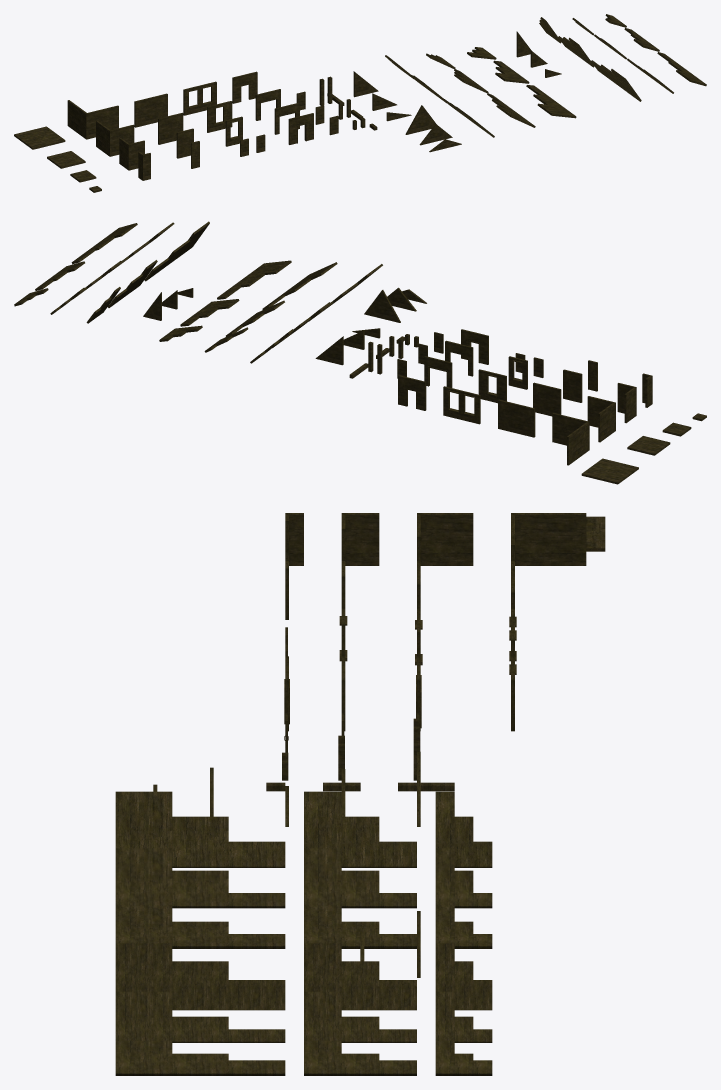
Rendered from Modular_Wood_Ver_01.fbx.
The picture shows the model from 3 angles, top to bottom: view 1: azimuth 30°, elevation 25°; view 2: azimuth 150°, elevation 25°; view 3: azimuth 270°, elevation 25°; orthographic projection. The views are drawn at different scales.
Visible parts, largest first — view 1: Wall_Corner_4x4, Wall_Corner_3x3, Wall_3x4_Var_01, Floor_4x4, Windowframe_4x3_Var_1, Wall_3x3_Var_01, Wall_Corner_2x3, Wall_3x3_Door_V4, Wall_3x3_Door_V1, Windowframe_3x3_Var_1, Triangle_Roof_4x3, Wall_2x3_Var_01 (+8 smaller); view 2: Wall_Corner_4x4, Wall_3x4_Var_01, Wall_Corner_3x3, Windowframe_4x3_Var_1, Floor_4x4, Wall_3x3_Var_01, Wall_3x3_Door_V4, Windowframe_3x3_Var_1, Wall_Corner_2x3, Wall_3x3_Door_V1, Wall_2x3_Var_01, Triangle_Roof_4x3 (+5 smaller); view 3: Wall_Corner_4x4, Roof_3x3_Var_02, Roof_3x3_Var_01, Wall_Corner_3x3, Roof_2x3_Var_01, pPlane11.003, pPlane10.003, pPlane1.008, Roof_3x3_Var_03, Roof_2x3_Var_02, Roof_2x3_Var_02.001, Roof_2x3_Var_01.001 (+29 smaller).
Boxes of the visible parts, <box> form: Wall_Corner_4x4: <box>67,100,118,139</box>; Wall_Corner_3x3: <box>96,120,134,156</box>; Wall_3x4_Var_01: <box>134,93,167,127</box>; Floor_4x4: <box>14,126,65,149</box>; Windowframe_4x3_Var_1: <box>183,81,216,115</box>; Wall_3x3_Var_01: <box>158,112,183,144</box>; Wall_Corner_2x3: <box>119,138,144,170</box>; Wall_3x3_Door_V4: <box>232,71,257,103</box>; Wall_3x3_Door_V1: <box>288,113,313,144</box>; Windowframe_3x3_Var_1: <box>207,101,232,132</box>; Triangle_Roof_4x3: <box>405,105,436,134</box>; Wall_2x3_Var_01: <box>176,128,193,158</box>; Wall_Corner_4x4: <box>552,413,589,465</box>; Wall_3x4_Var_01: <box>498,399,535,437</box>; Wall_Corner_3x3: <box>587,396,615,442</box>; Windowframe_4x3_Var_1: <box>443,386,480,424</box>; Floor_4x4: <box>581,458,638,484</box>; Wall_3x3_Var_01: <box>533,382,561,416</box>; Wall_3x3_Door_V4: <box>398,375,426,410</box>; Windowframe_3x3_Var_1: <box>478,369,506,403</box>; Wall_Corner_2x3: <box>617,383,636,423</box>; Wall_3x3_Door_V1: <box>461,329,488,364</box>; Wall_2x3_Var_01: <box>563,369,582,402</box>; Triangle_Roof_4x3: <box>364,290,400,322</box>; Wall_Corner_4x4: <box>511,513,586,565</box>; Roof_3x3_Var_02: <box>115,848,172,905</box>; Roof_3x3_Var_01: <box>115,791,172,848</box>; Wall_Corner_3x3: <box>417,513,473,565</box>; Roof_2x3_Var_01: <box>172,816,228,867</box>; pPlane11.003: <box>115,991,172,1040</box>; pPlane10.003: <box>172,961,228,1010</box>; pPlane1.008: <box>115,943,172,991</box>; Roof_3x3_Var_03: <box>115,905,172,943</box>; Roof_2x3_Var_02: <box>172,870,228,908</box>; Roof_2x3_Var_02.001: <box>304,848,341,905</box>; Roof_2x3_Var_01.001: <box>304,791,341,848</box>.
Bounding box in the file's own units: 7000 × 320 × 2600.
2 materials, 2 textured.
